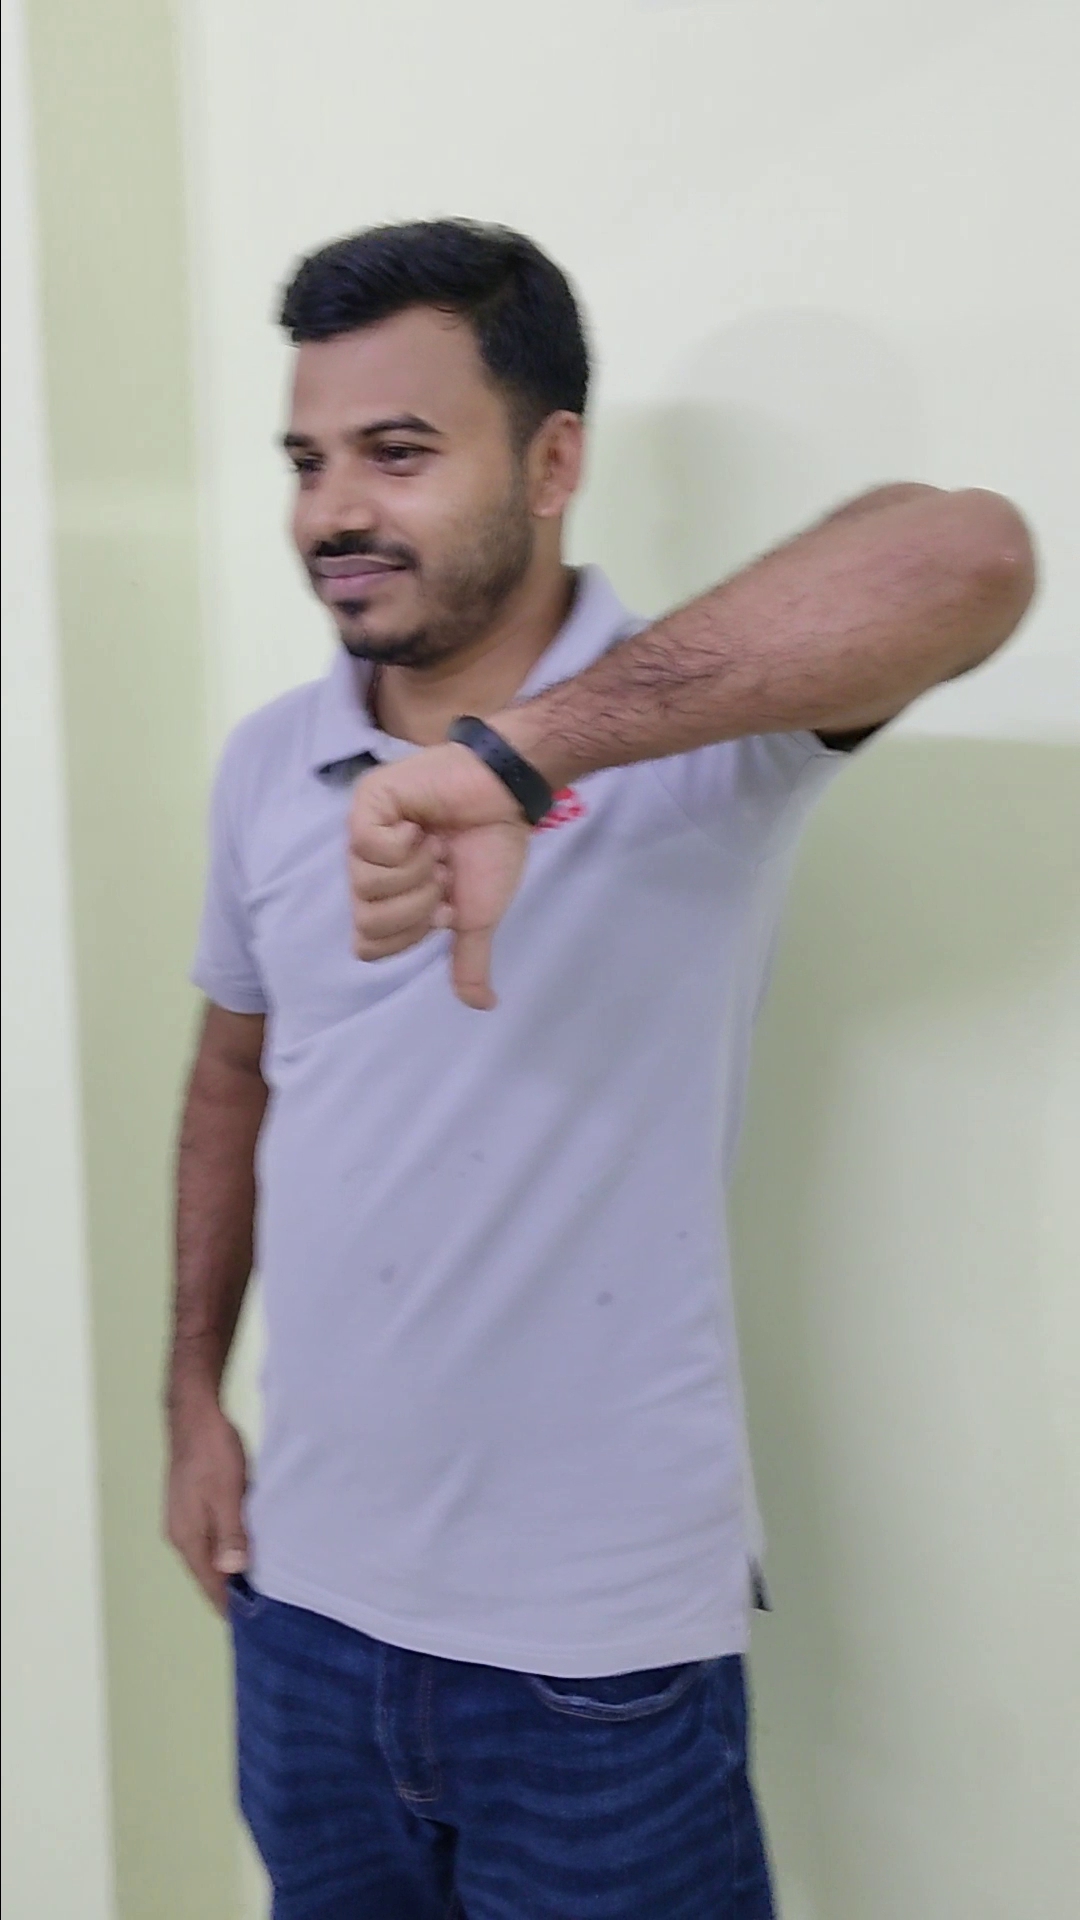Dislike: (324, 705, 556, 1030)
None: (136, 1352, 284, 1644)
